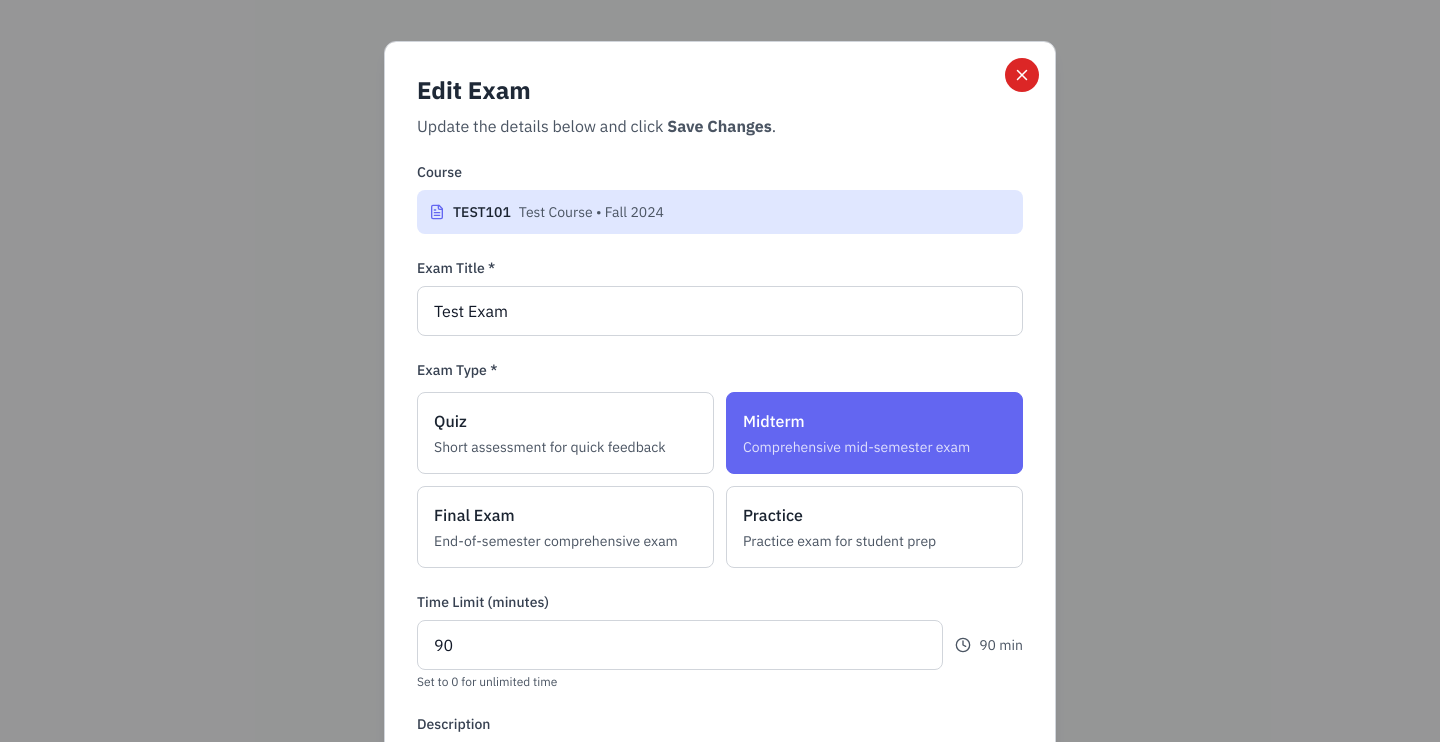
Test: EditExamModal › Edge Cases › prevents leading zeros in number inputs
Clear the field with placeholder "0 = unlimited" at [680, 644], box 417,620 -> 943,670
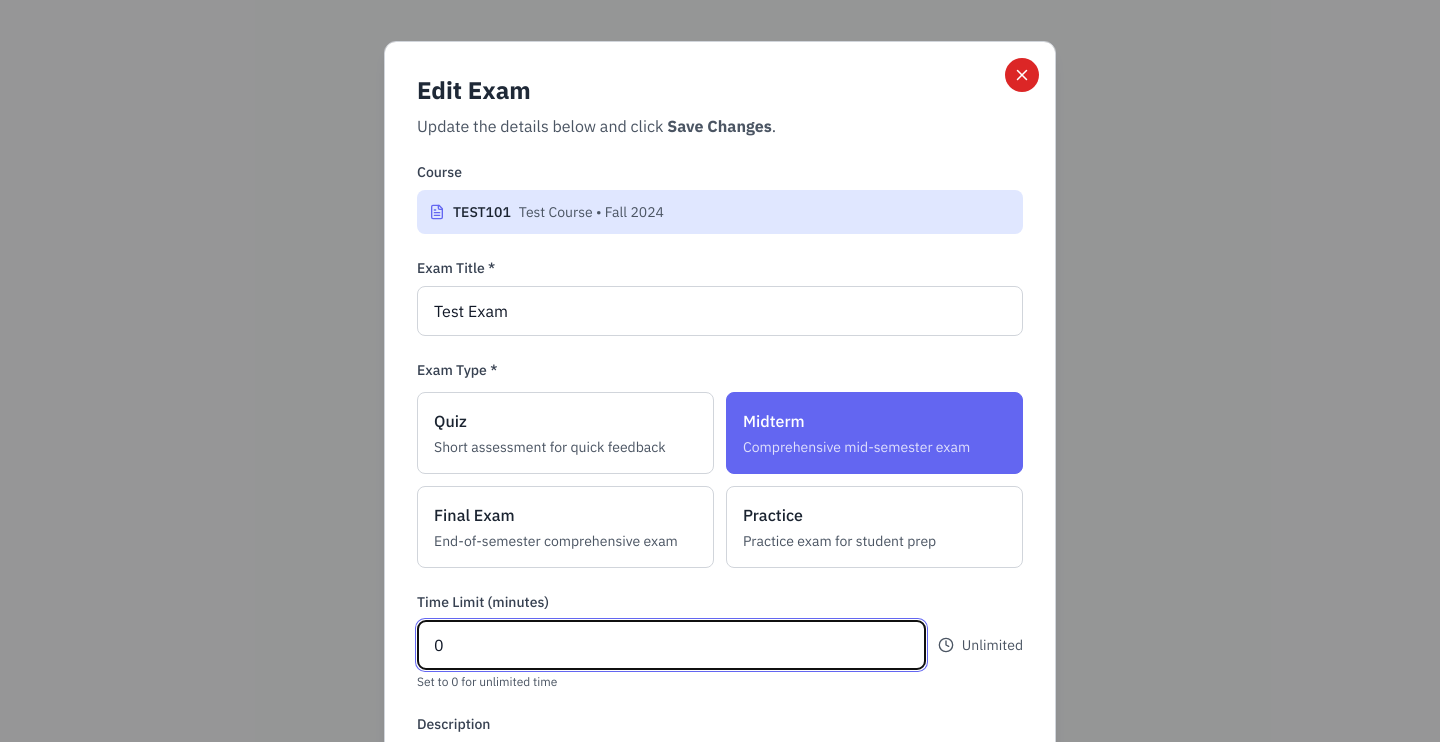
Type "060" into the field with placeholder "0 = unlimited" at [671, 644], box 417,620 -> 926,670
(page scrolled)
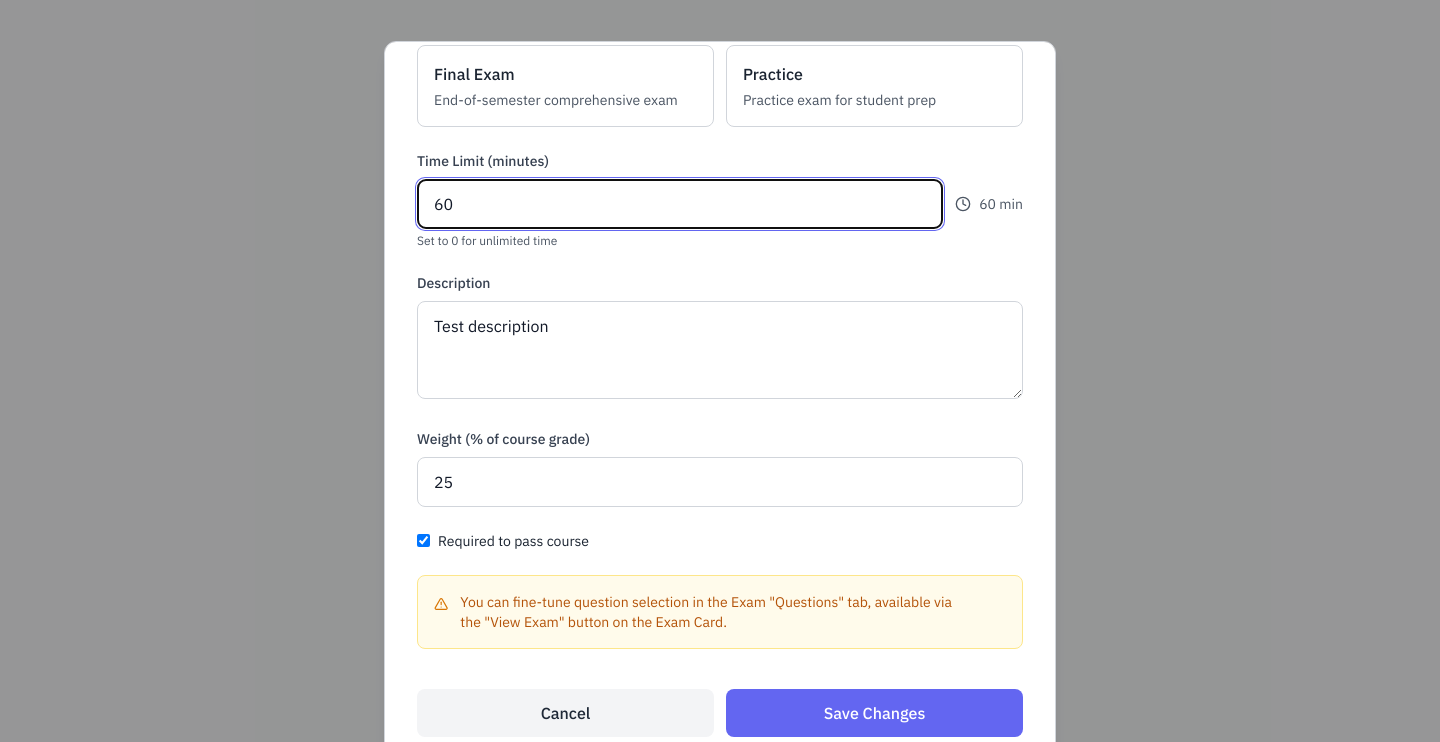
Result: the field with placeholder "0 = unlimited" next to "60 min" holds "60" at 417,178 -> 943,228
Replace the text in the field with placeholder "0 – 100" below "Weight (% of course grade)" with "025" at [720, 482], box 417,456 -> 1023,506
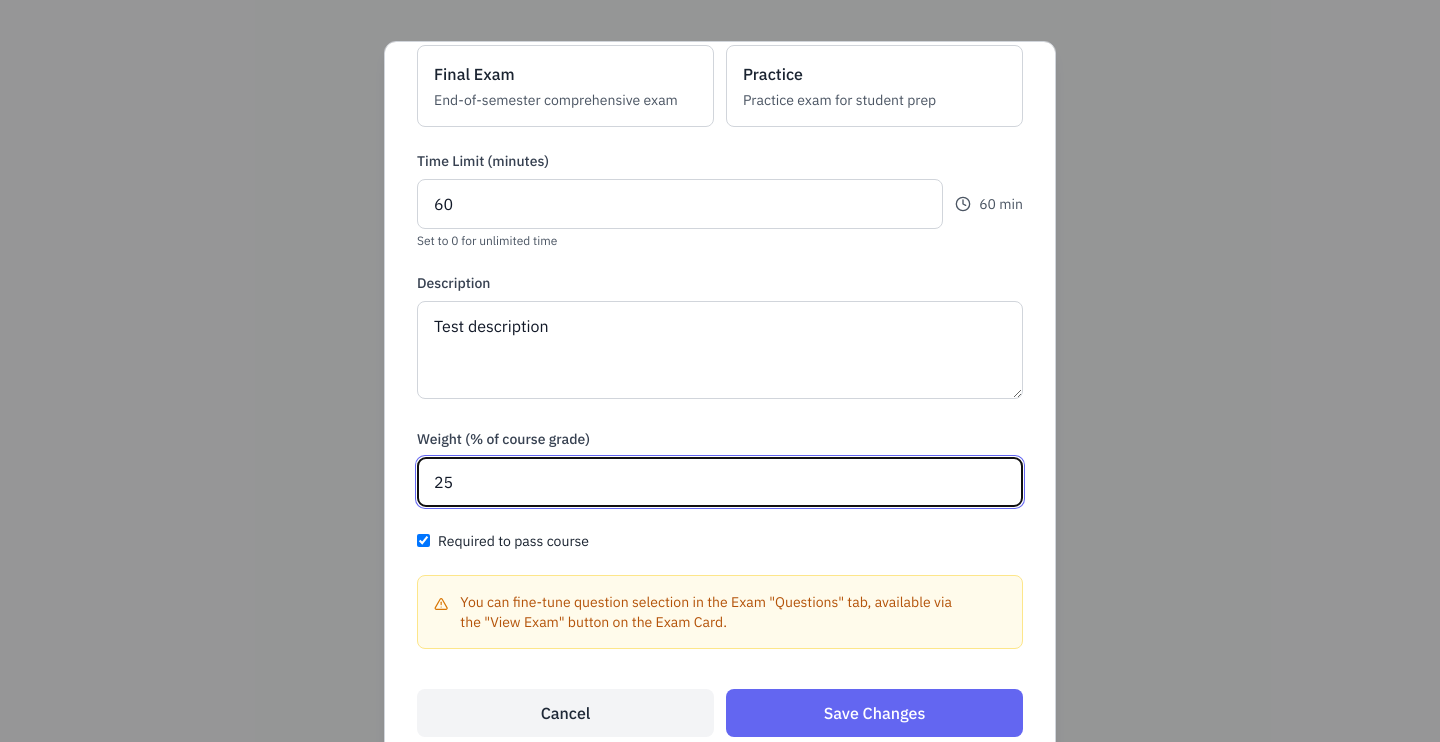
Result: the field with placeholder "0 – 100" below "Weight (% of course grade)" holds "25" at 417,456 -> 1023,506
